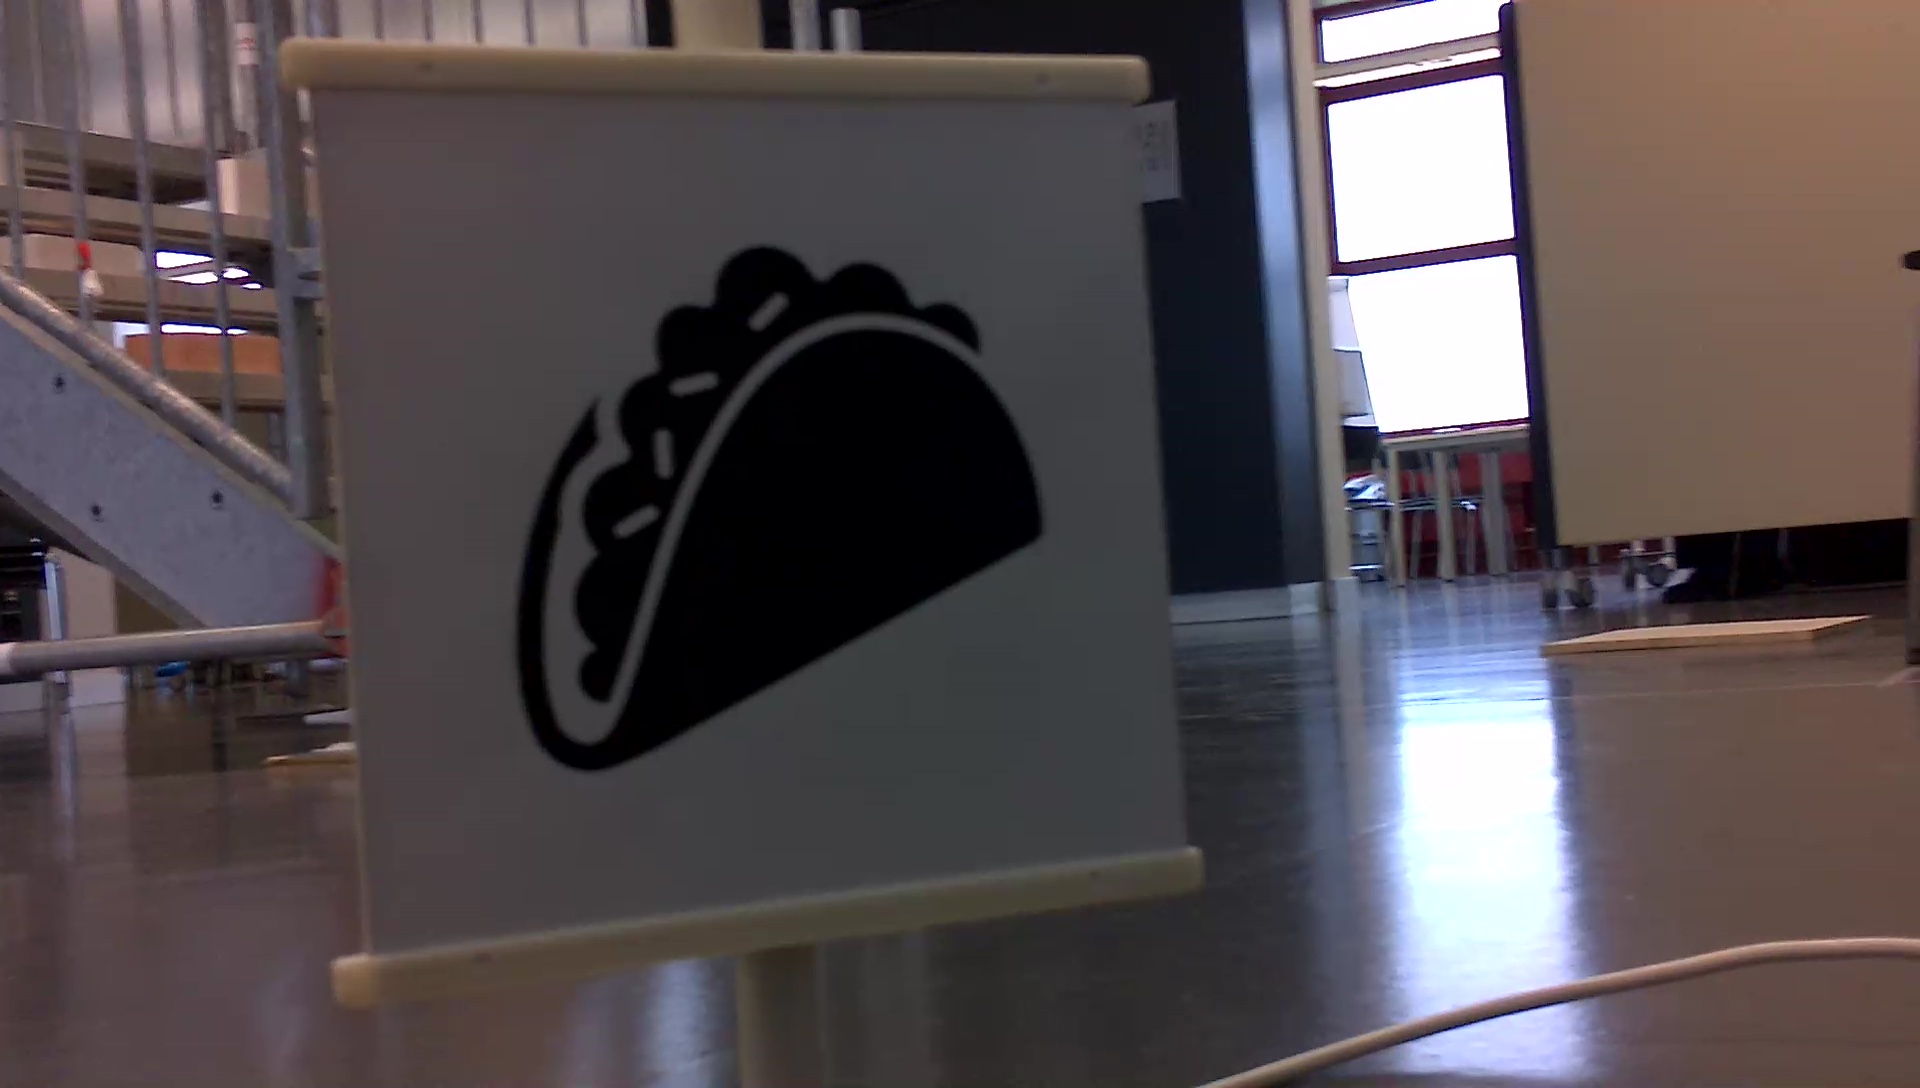taco: (500, 229, 1063, 782)
